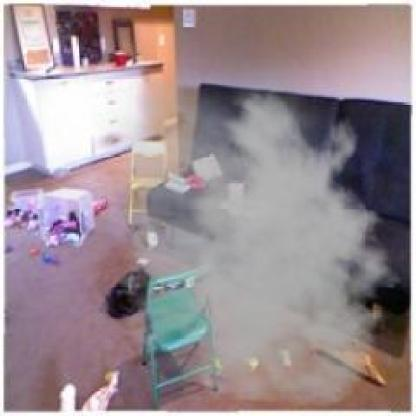Smoke: (78, 59, 413, 409)
